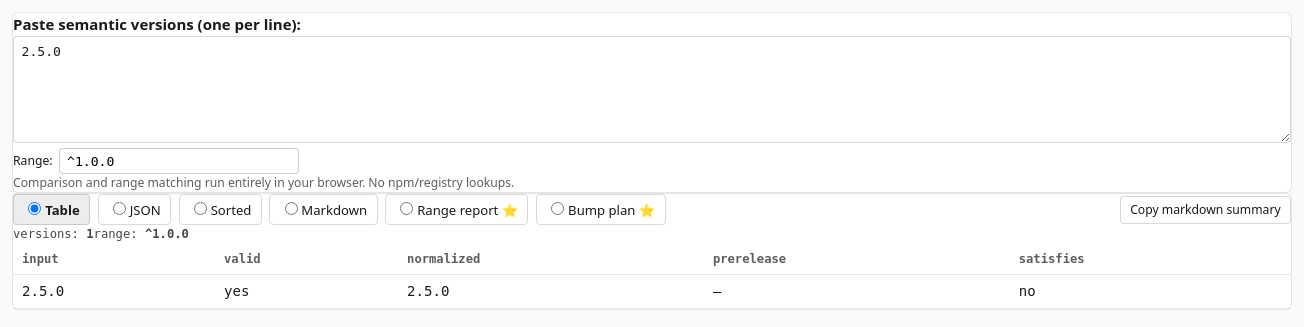
SemverApp › updates satisfies when the range field changes
Expected: the cell with test id "semver-satisfies-0" reads "no", left=1019, top=283, right=1036, bottom=299
Replace the text in the field with test id "semver-range" with "^2.0.0" at (178, 161), box left=58, top=148, right=298, bottom=174
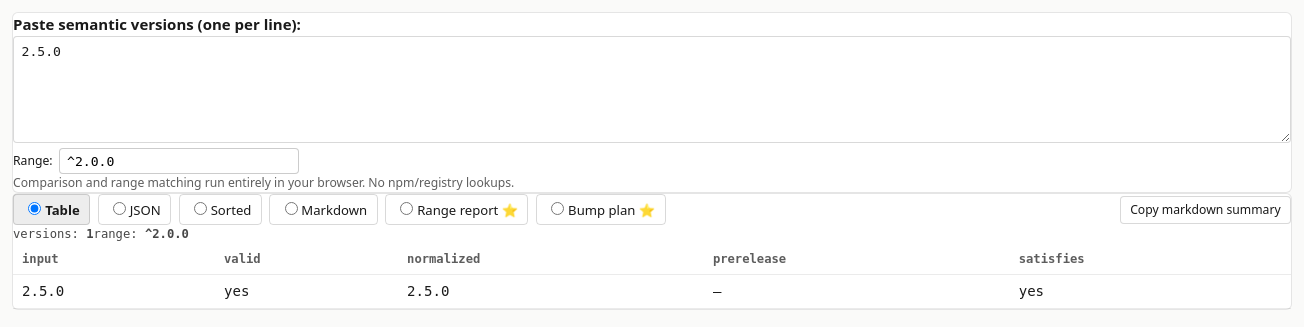
Result: the cell with test id "semver-satisfies-0" reads "yes" at left=1019, top=283, right=1044, bottom=299
